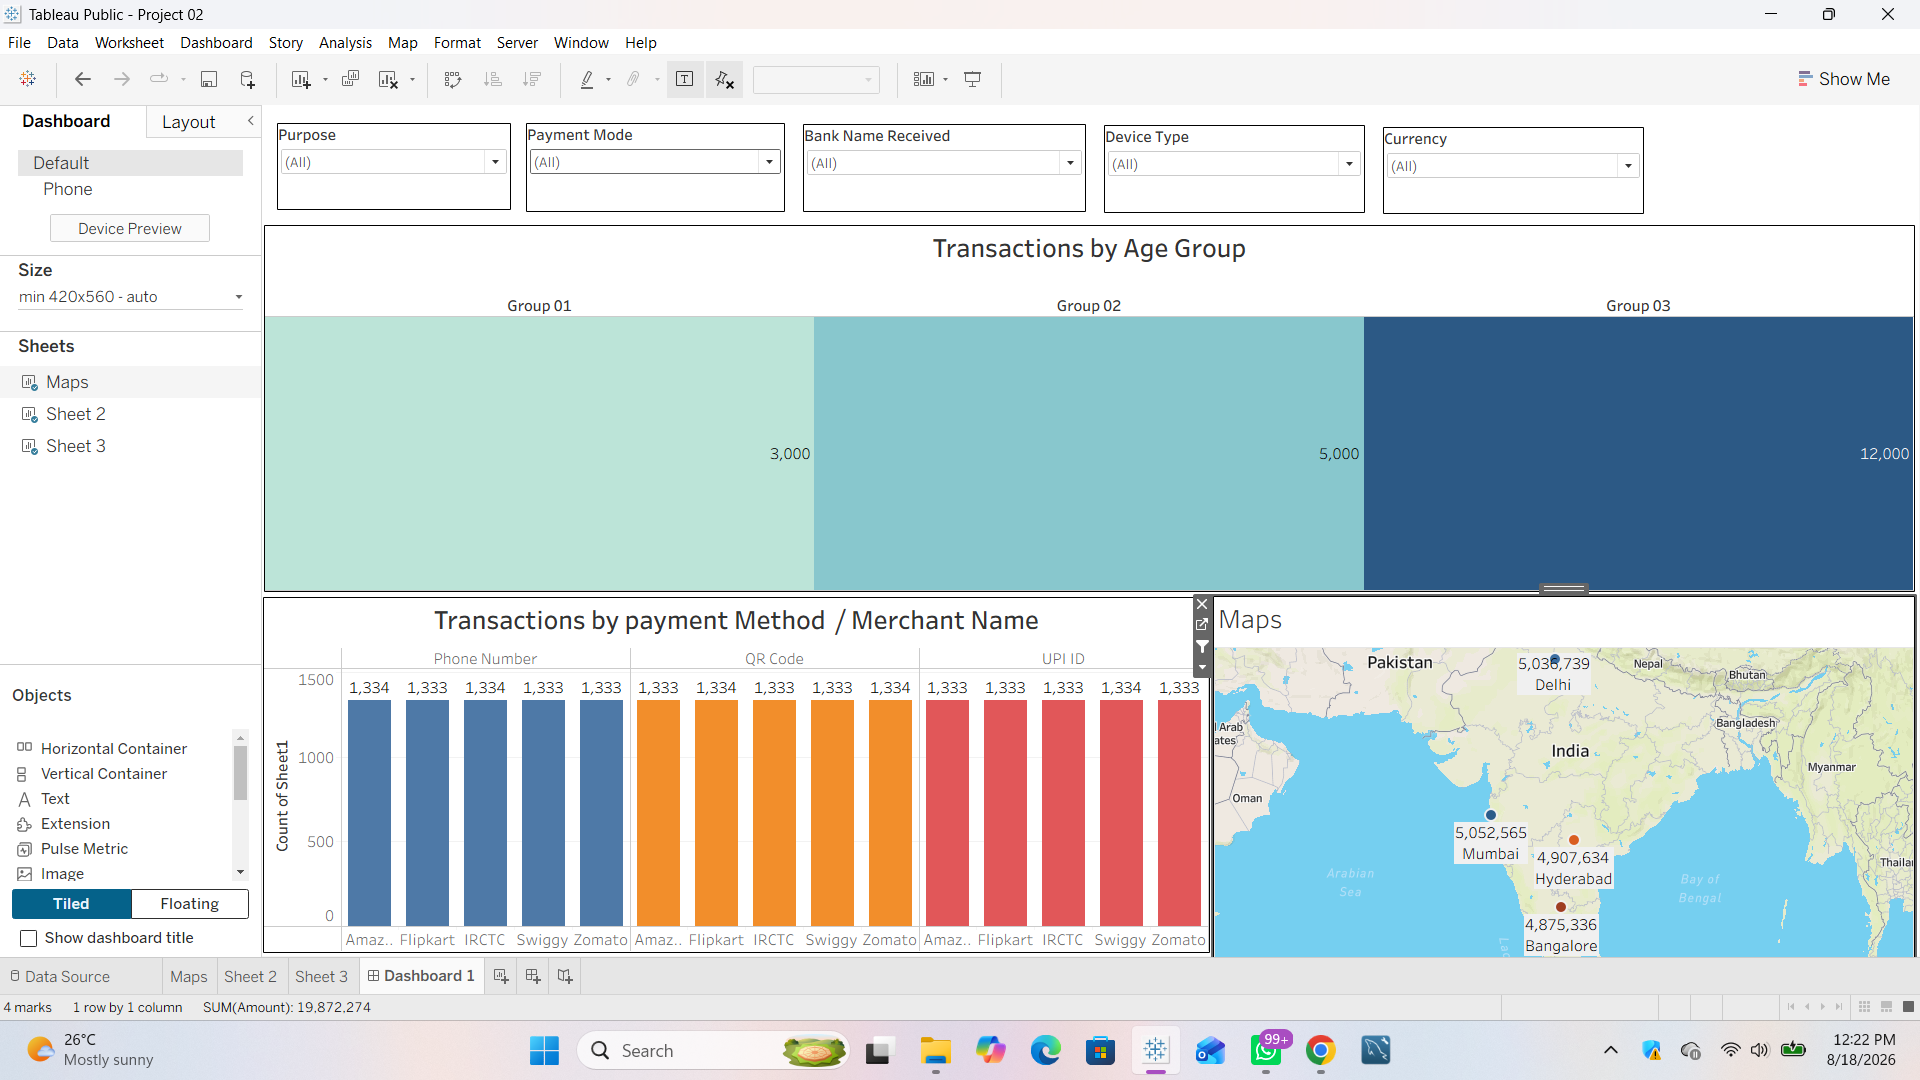

The page's visual inventory and layout, read from the dashboard file:
{"tool":"tableau","page":{"name":"Dashboard 1","canvas":[1000,1000],"units":"permille","ordinal":0},"visuals":[{"type":"filter","title":"Sheet 3","param":"[federated.132pfx81lso4mm163pczz15gs1ku].[none:Purpose:nk]","box":[9.1,21.2,141.2,102.2]},{"type":"filter","title":"Sheet 3","param":"[federated.132pfx81lso4mm163pczz15gs1ku].[none:PaymentMode:nk]","box":[159.3,21.2,156.3,104.6]},{"type":"filter","title":"Sheet 3","param":"[federated.132pfx81lso4mm163pczz15gs1ku].[none:BankNameReceived:nk]","box":[326.5,22.3,170.8,103.4]},{"type":"filter","title":"Sheet 3","param":"[federated.132pfx81lso4mm163pczz15gs1ku].[none:DeviceType:nk]","box":[508.2,23.5,157.5,103.4]},{"type":"filter","title":"Sheet 3","param":"[federated.132pfx81lso4mm163pczz15gs1ku].[none:Currency:nk]","box":[676.5,25.9,157.5,102.2]},{"type":"worksheet","title":"Sheet 2","mark":"Square","cols":["Calculation_0768583159209985"],"box":[1.2,141,996.4,431.3]},{"type":"worksheet","title":"Sheet 3","mark":"Automatic","rows":["Sheet1_F8DF4AA89FDB40378E3103F821669E50"],"cols":["PaymentMethod","MerchantName"],"box":[0.6,578.1,571.5,418.3]}]}

Visuals, with their boxes on the dashboard's canvas, which has no fixed pixel size, in thousandths of its width and height (x1, y1, x2, y2). These are canvas units, not pixel positions in the 1920x1080 screenshot, which may show the page scaled, cropped or inside an application window:
"Sheet 3" filter: locate(9, 21, 150, 123)
"Sheet 3" filter: locate(159, 21, 316, 126)
"Sheet 3" filter: locate(326, 22, 497, 126)
"Sheet 3" filter: locate(508, 24, 666, 127)
"Sheet 3" filter: locate(676, 26, 834, 128)
"Sheet 2" worksheet (Square marks): locate(1, 141, 998, 572)
"Sheet 3" worksheet: locate(1, 578, 572, 996)
